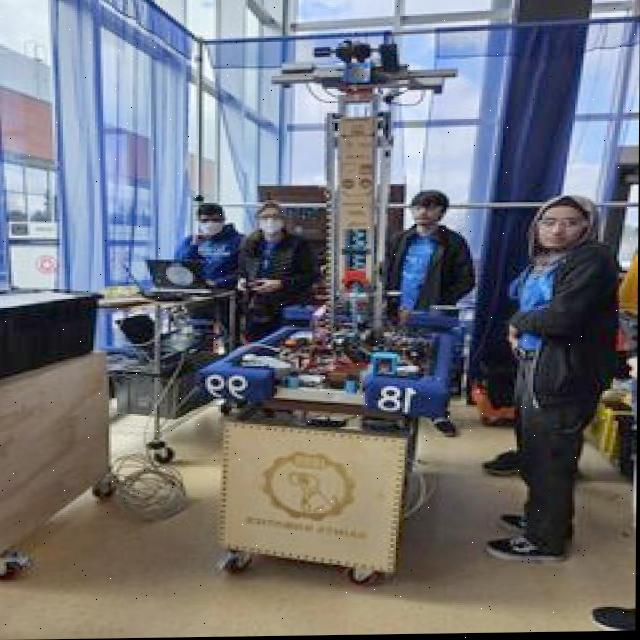robot: (196, 33, 466, 416)
